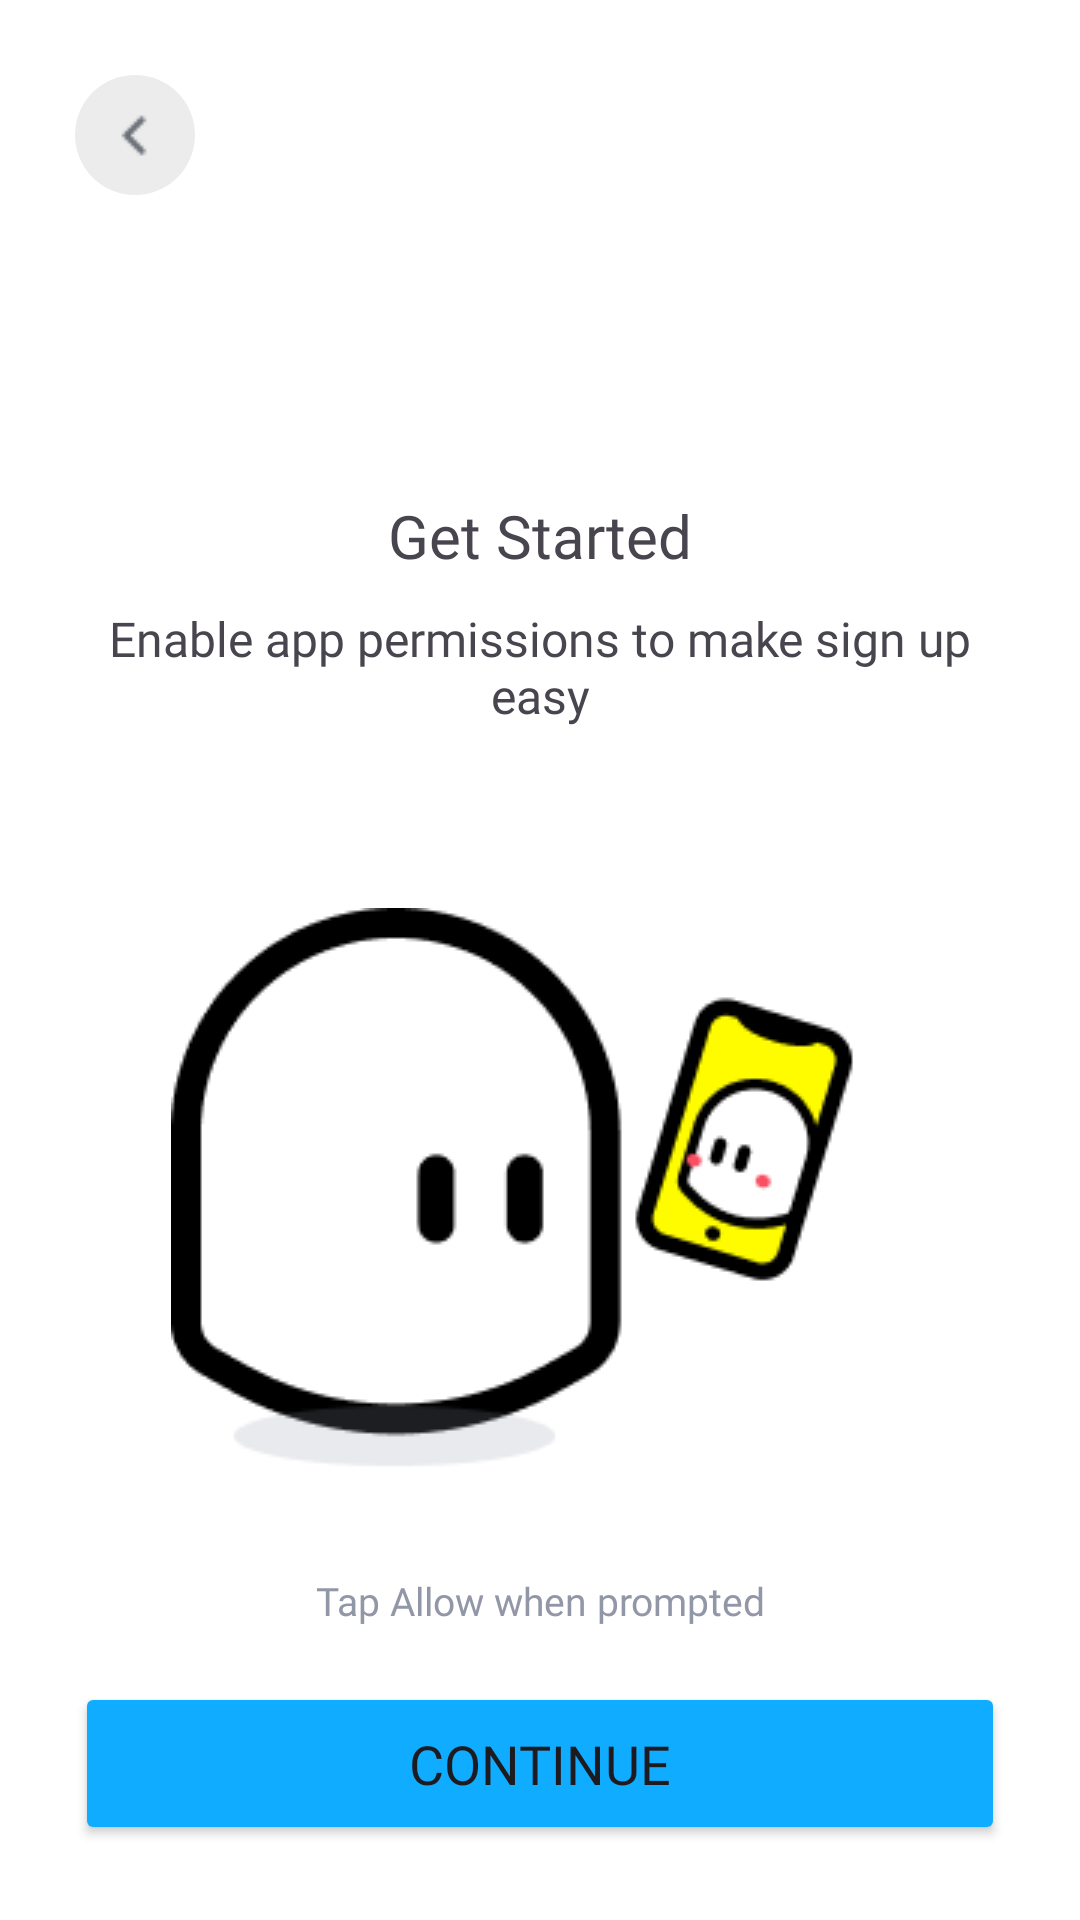

Icon click points for this 1080w x 1920h phone screenshot, format (x,y):
back: (134,135)
